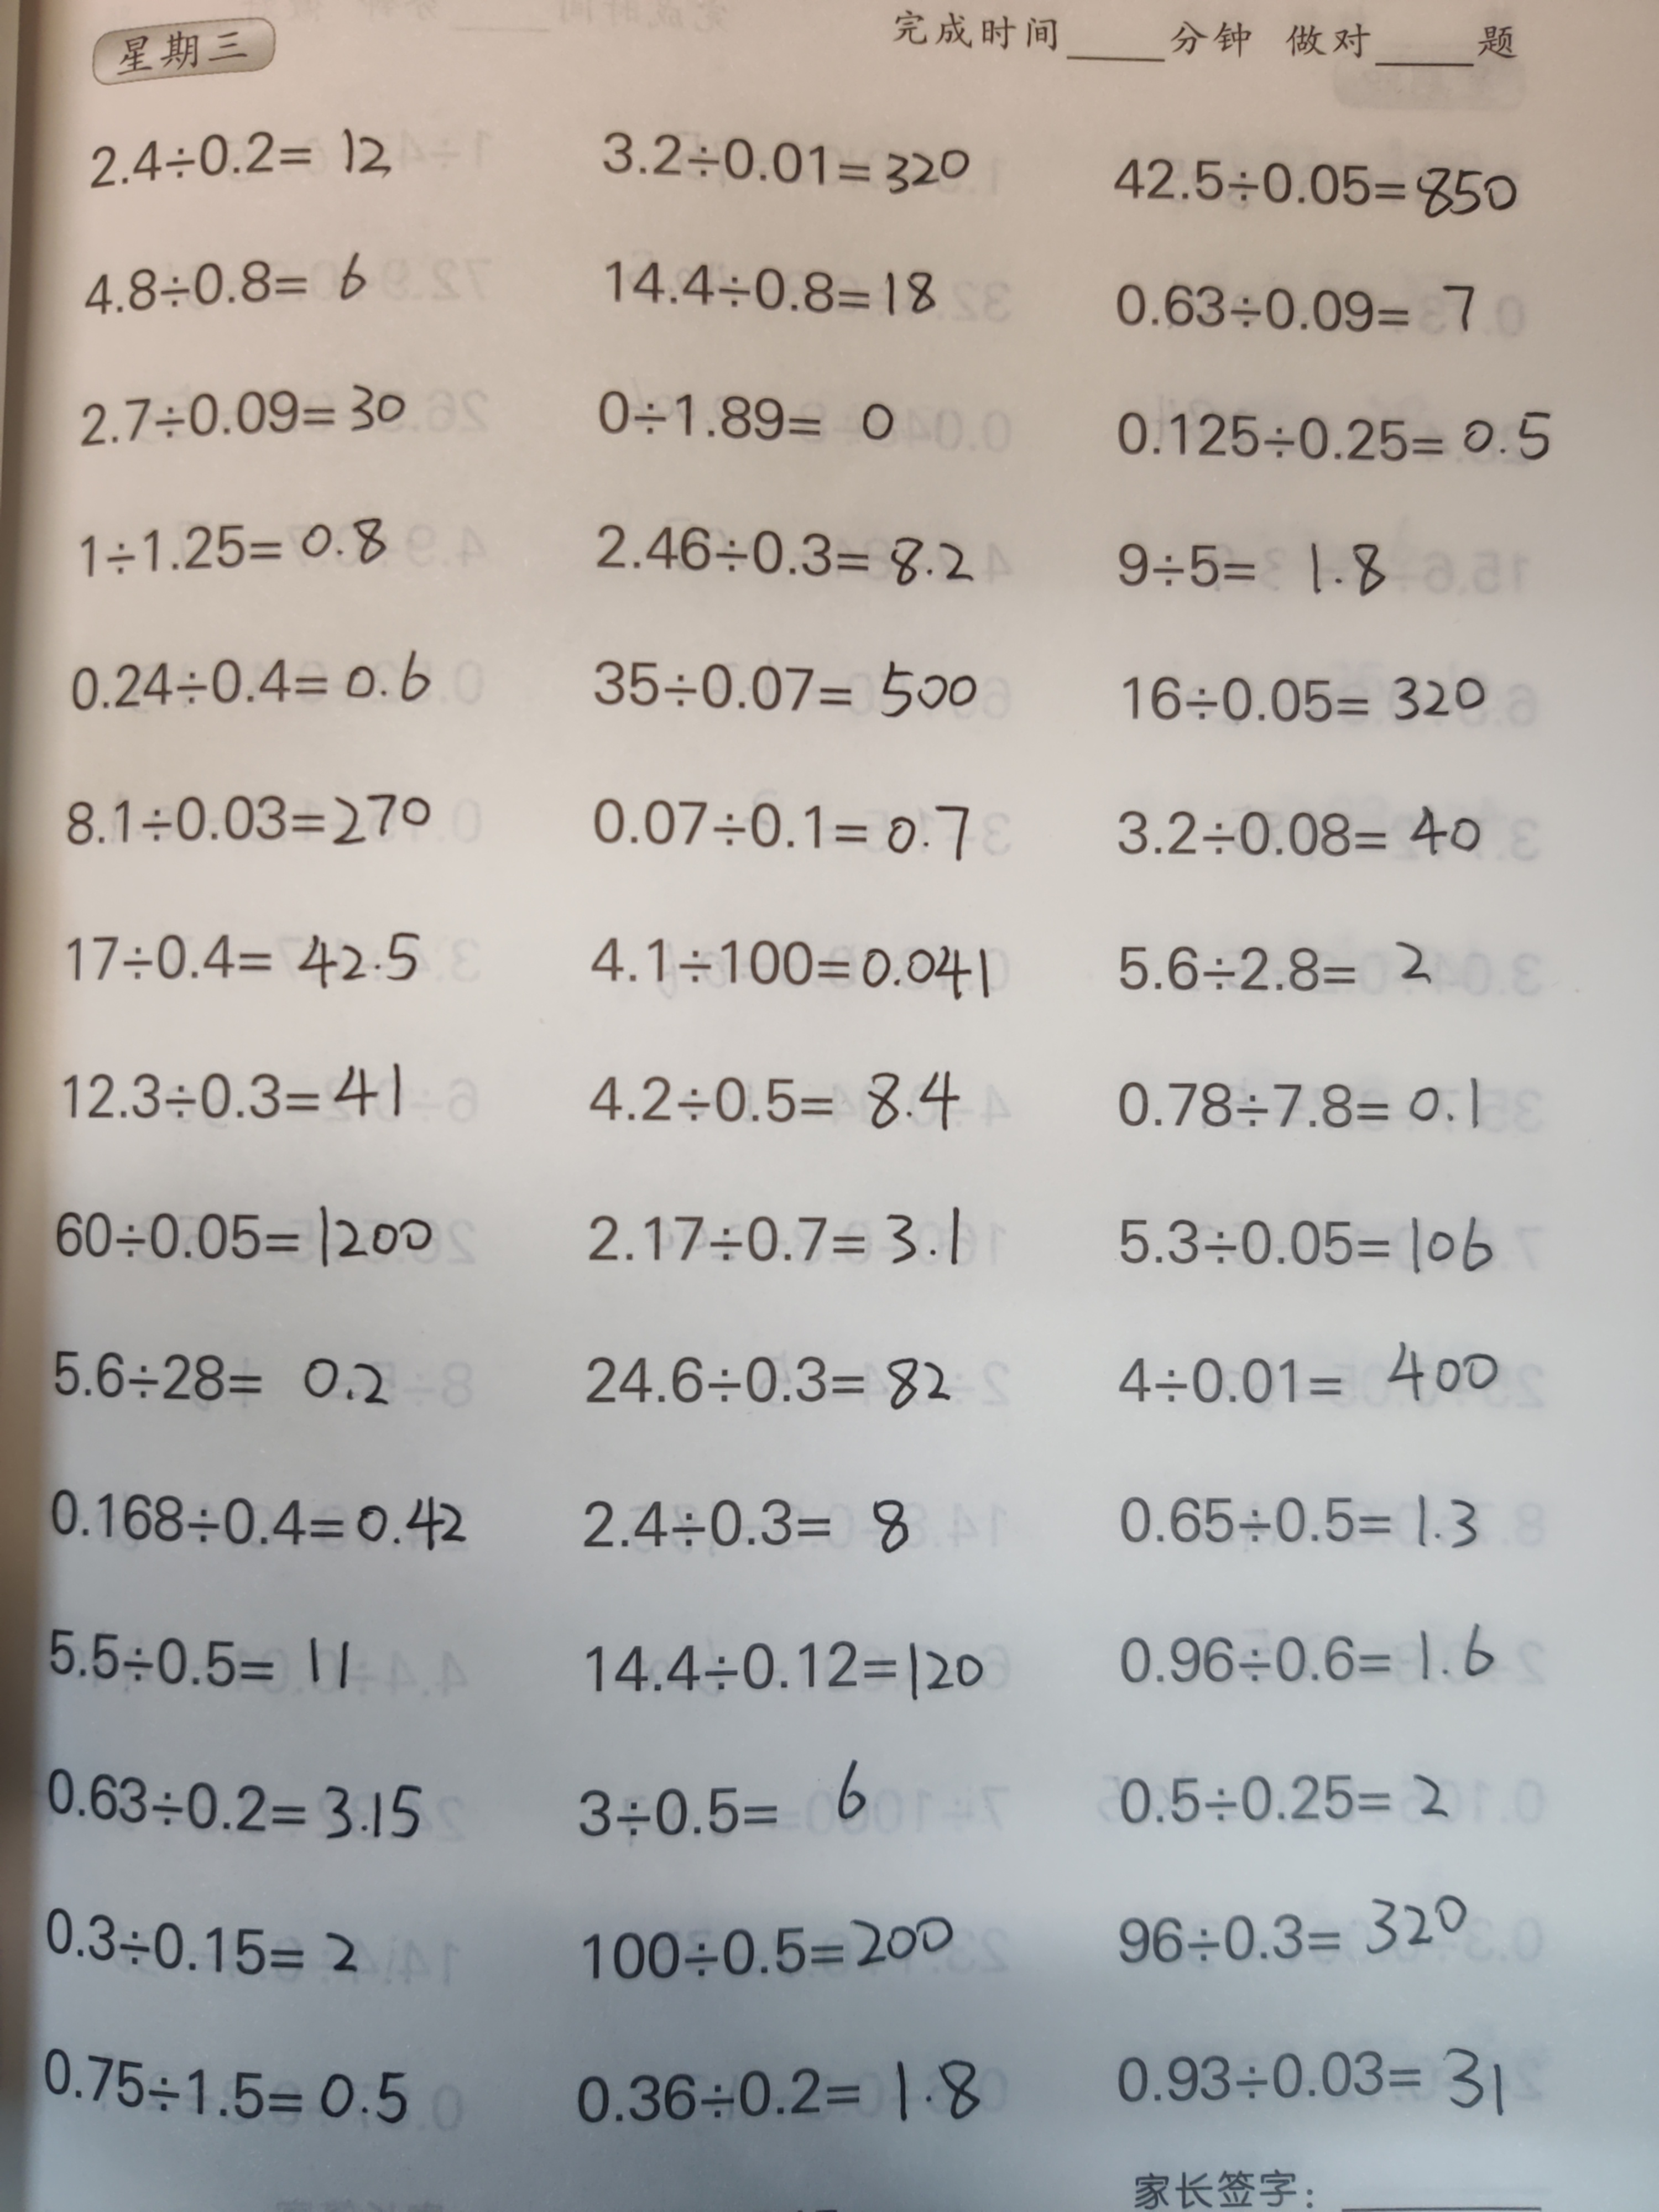equation: (552, 2022, 985, 2144), (28, 1467, 486, 1568), (28, 2020, 422, 2137), (40, 1749, 434, 1864), (556, 1895, 986, 2000), (44, 899, 429, 1015), (1089, 1606, 1511, 1712), (1100, 132, 1532, 235), (1094, 2027, 1525, 2128), (573, 505, 995, 608), (1094, 1054, 1506, 1158), (47, 1176, 455, 1278), (566, 1045, 979, 1146), (556, 1183, 967, 1284), (566, 925, 1002, 1019), (570, 784, 978, 883), (1094, 1475, 1497, 1573), (582, 643, 992, 738), (580, 115, 972, 214), (1101, 399, 1567, 482), (1105, 653, 1518, 747), (554, 1625, 995, 1712), (40, 1892, 382, 2003), (579, 239, 946, 340), (1089, 1749, 1462, 1848), (559, 1339, 971, 1428), (582, 369, 915, 479), (1100, 1205, 1502, 1296), (1089, 265, 1493, 354), (1105, 914, 1455, 1015), (1101, 1890, 1481, 1980), (35, 1609, 366, 1712), (42, 1329, 410, 1421), (549, 1749, 890, 1848), (54, 1054, 420, 1146), (63, 643, 436, 733), (1117, 796, 1485, 887), (1110, 1345, 1511, 1426), (71, 113, 420, 207), (61, 491, 410, 583), (552, 1479, 929, 1562), (73, 233, 383, 334), (66, 378, 416, 462), (49, 782, 444, 855), (1094, 526, 1398, 613)
